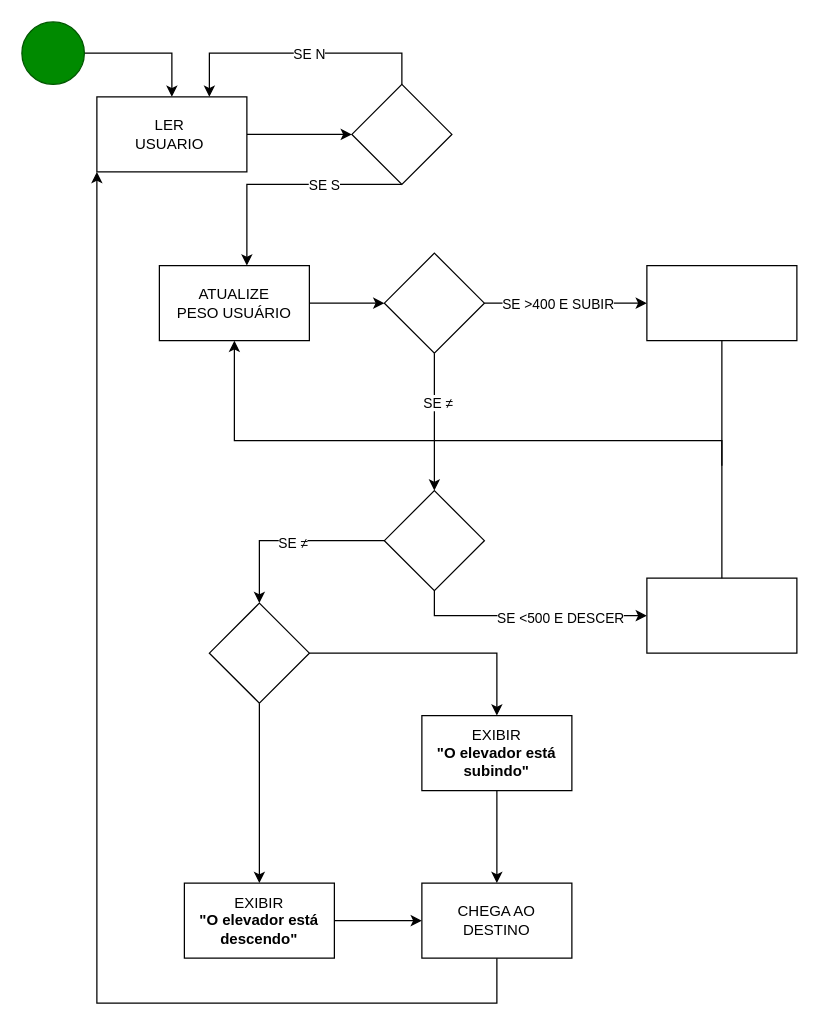
Some shapes in this 819 by 1035 pixel diagram are drawn without their labels. Here are the shapes that lost their labels. From the top down, the centre of each, then its label:
pixel 721 302: EXIBIR "Alguém deve sair para eu subir"
pixel 721 615: EXIBIR "Alguém deve sair para eu descer"
